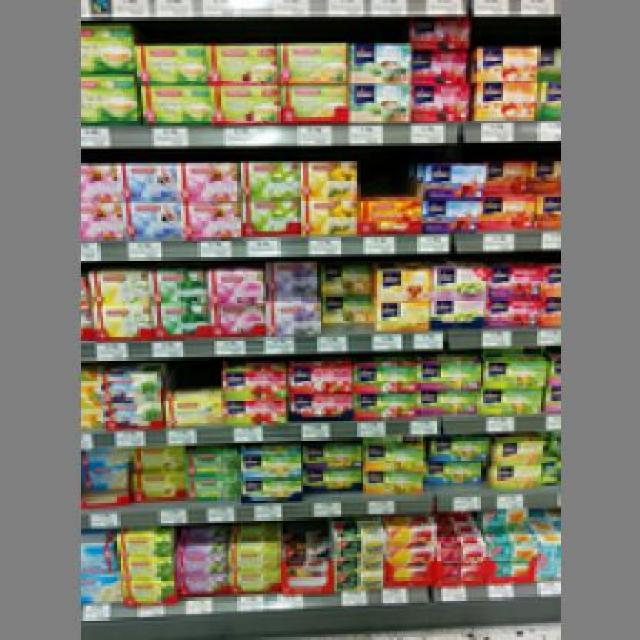Tea: (277, 34, 340, 114), (294, 152, 354, 228), (177, 158, 237, 232), (206, 262, 260, 332), (220, 357, 277, 420), (240, 446, 297, 494)
